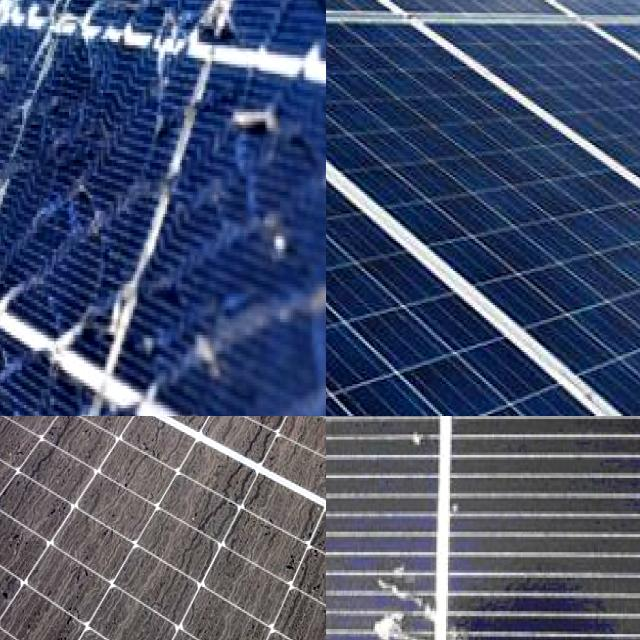crack: (326, 8, 640, 416), (326, 10, 640, 416), (326, 0, 640, 106), (326, 0, 562, 111), (326, 0, 469, 128)
dust: (0, 486, 167, 620), (197, 440, 304, 640), (14, 416, 197, 476), (227, 416, 326, 486), (0, 416, 37, 454)
hotspot: (90, 12, 248, 300), (0, 179, 108, 416)
shadow: (346, 528, 499, 640)
